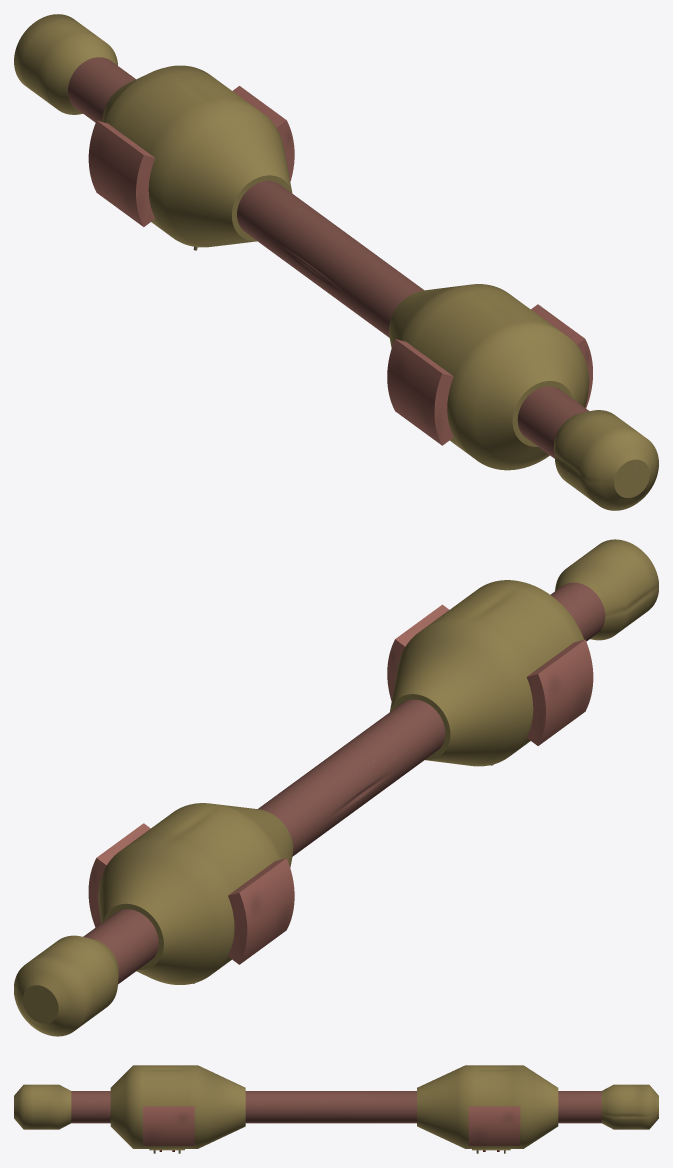
3 renders of one model, top to bottom at view 1: azimuth 30°, elevation 25°; view 2: azimuth 150°, elevation 25°; view 3: azimuth 270°, elevation 25°, orthographic. The views are drawn at different scales.
Visible parts, largest first — view 1: Braccatian Outbreak gold forward capsule, Braccatian Outbreak gold rear capsule, Braccatian Outbreak copper axial body, Braccatian Outbreak gold forward terminal, Braccatian Outbreak gold rear terminal, Braccatian Outbreak pink side casting 0 1, Braccatian Outbreak pink side casting 1 1, Braccatian Outbreak pink side casting 1 0, Braccatian Outbreak pink side casting 0 0; view 2: Braccatian Outbreak gold forward capsule, Braccatian Outbreak gold rear capsule, Braccatian Outbreak copper axial body, Braccatian Outbreak gold rear terminal, Braccatian Outbreak gold forward terminal, Braccatian Outbreak pink side casting 1 1, Braccatian Outbreak pink side casting 0 1, Braccatian Outbreak pink side casting 1 0, Braccatian Outbreak pink side casting 0 0; view 3: Braccatian Outbreak copper axial body, Braccatian Outbreak gold rear capsule, Braccatian Outbreak gold forward capsule, Braccatian Outbreak gold forward terminal, Braccatian Outbreak gold rear terminal, Braccatian Outbreak pink side casting 1 0, Braccatian Outbreak pink side casting 0 0.
Boxes of the visible parts, left/top/right/bottom form: Braccatian Outbreak gold forward capsule: left=389, top=284, right=589, bottom=470; Braccatian Outbreak gold rear capsule: left=102, top=65, right=292, bottom=247; Braccatian Outbreak copper axial body: left=68, top=57, right=589, bottom=458; Braccatian Outbreak gold forward terminal: left=554, top=410, right=658, bottom=510; Braccatian Outbreak gold rear terminal: left=14, top=14, right=117, bottom=114; Braccatian Outbreak pink side casting 0 1: left=387, top=339, right=453, bottom=445; Braccatian Outbreak pink side casting 1 1: left=88, top=120, right=155, bottom=226; Braccatian Outbreak pink side casting 1 0: left=233, top=86, right=294, bottom=181; Braccatian Outbreak pink side casting 0 0: left=531, top=304, right=592, bottom=408; Braccatian Outbreak gold forward capsule: left=390, top=580, right=583, bottom=766; Braccatian Outbreak gold rear capsule: left=98, top=803, right=293, bottom=984; Braccatian Outbreak copper axial body: left=83, top=582, right=605, bottom=984; Braccatian Outbreak gold rear terminal: left=14, top=935, right=118, bottom=1036; Braccatian Outbreak gold forward terminal: left=555, top=539, right=658, bottom=640; Braccatian Outbreak pink side casting 1 1: left=228, top=858, right=294, bottom=964; Braccatian Outbreak pink side casting 0 1: left=526, top=639, right=593, bottom=745; Braccatian Outbreak pink side casting 1 0: left=88, top=823, right=150, bottom=927; Braccatian Outbreak pink side casting 0 0: left=387, top=604, right=449, bottom=700; Braccatian Outbreak copper axial body: left=71, top=1091, right=601, bottom=1123; Braccatian Outbreak gold rear capsule: left=417, top=1065, right=558, bottom=1148; Braccatian Outbreak gold forward capsule: left=110, top=1065, right=245, bottom=1148; Braccatian Outbreak gold forward terminal: left=14, top=1084, right=71, bottom=1129; Braccatian Outbreak gold rear terminal: left=601, top=1084, right=658, bottom=1129; Braccatian Outbreak pink side casting 1 0: left=468, top=1106, right=520, bottom=1145; Braccatian Outbreak pink side casting 0 0: left=143, top=1106, right=194, bottom=1145.
Bounding box in the file's own units: 0.31 × 0.2784 × 2.
5 materials, 3 textured.
